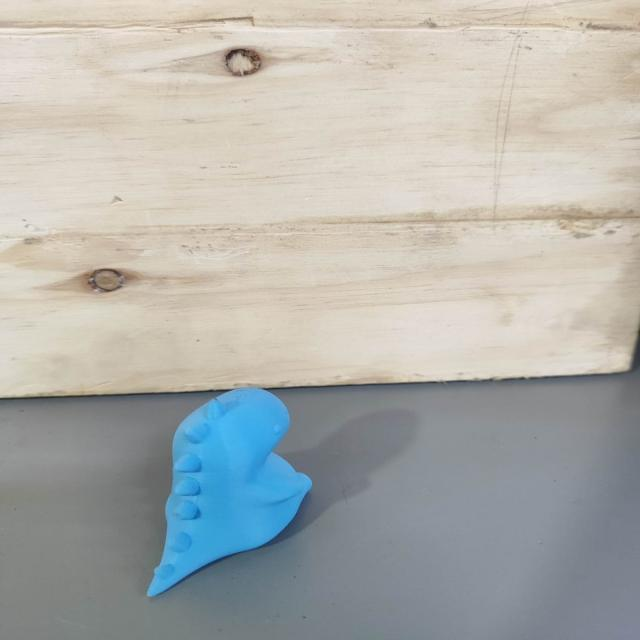DINO: (135, 382, 319, 594)
